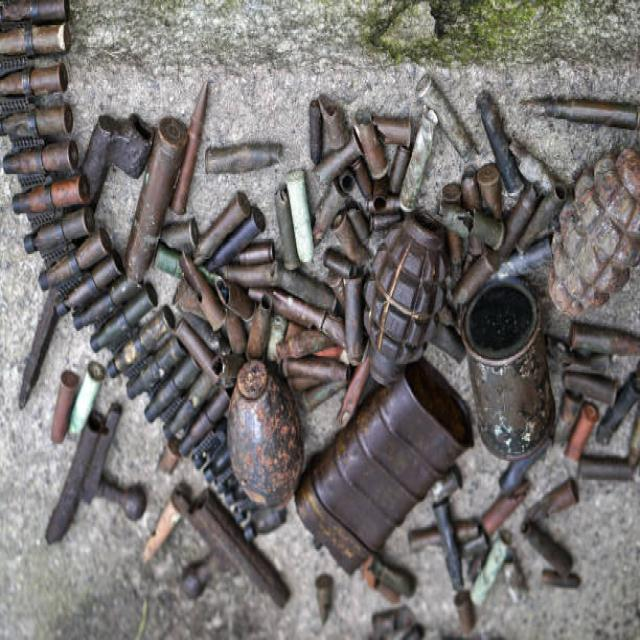grenade: (353, 210, 460, 393), (546, 150, 640, 328), (224, 362, 313, 518)
